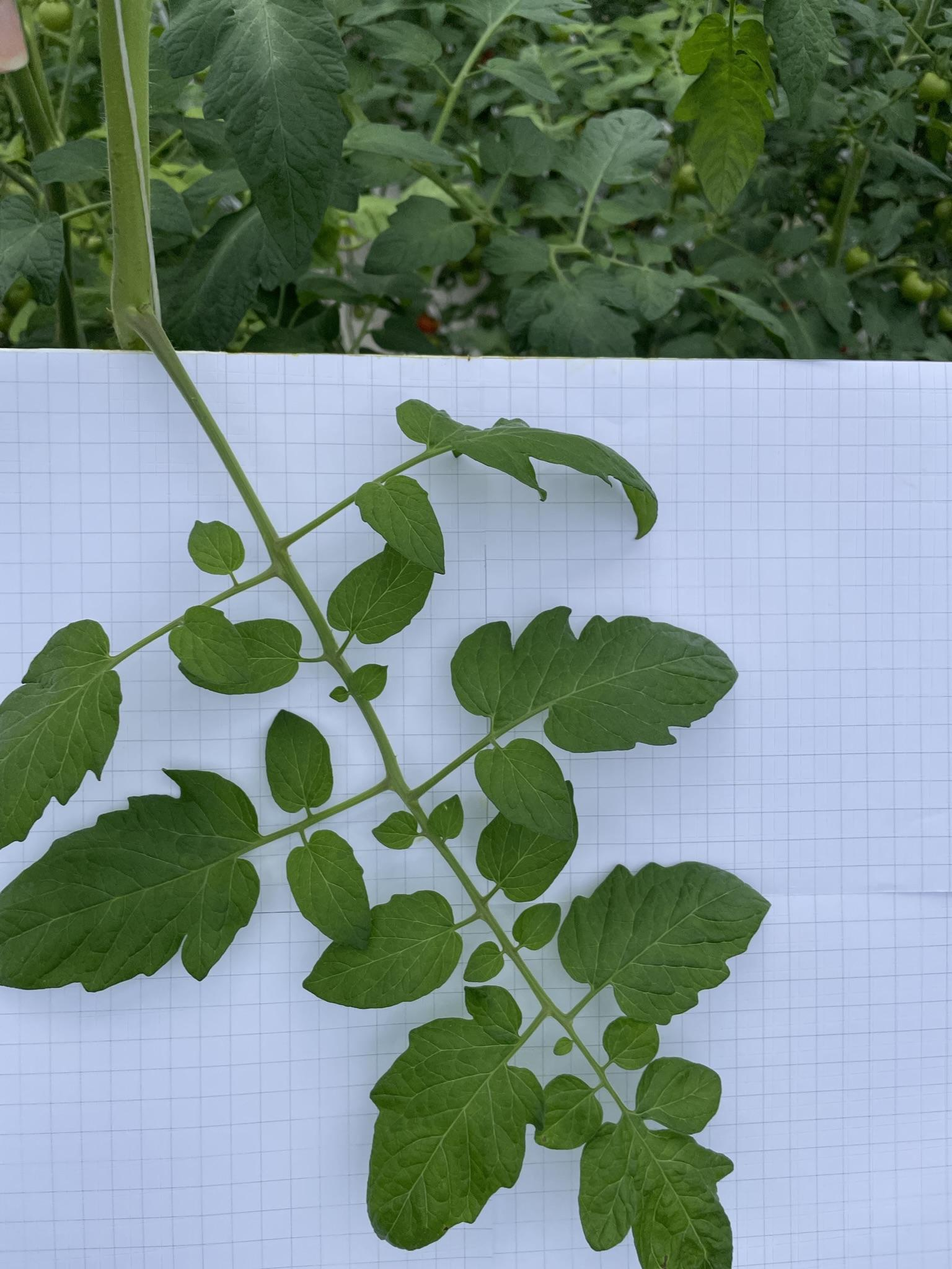Healthy: (0, 766, 260, 993), (156, 0, 353, 273), (363, 983, 545, 1252), (447, 605, 741, 754), (392, 384, 664, 545), (573, 1054, 757, 1269), (557, 861, 778, 1027), (0, 615, 128, 853), (156, 194, 313, 352), (667, 10, 779, 218), (300, 886, 461, 1012), (476, 778, 580, 902), (325, 538, 438, 644), (283, 828, 378, 952), (473, 736, 576, 846), (551, 106, 669, 198), (361, 192, 478, 279), (762, 0, 837, 135), (175, 618, 304, 696), (353, 473, 448, 575), (263, 703, 336, 817), (169, 605, 253, 688), (344, 117, 467, 169), (475, 113, 561, 181), (534, 1071, 605, 1150), (359, 19, 447, 73), (475, 50, 561, 105), (33, 136, 108, 185), (603, 1012, 662, 1071), (187, 518, 246, 577), (513, 901, 563, 949), (634, 267, 678, 321), (464, 938, 507, 986), (372, 809, 420, 850), (425, 793, 465, 840), (349, 661, 390, 703)
